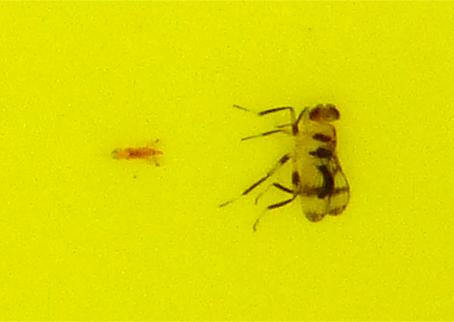Brachycera: (238, 100, 354, 222)
Hemiptera: (100, 140, 168, 164)
